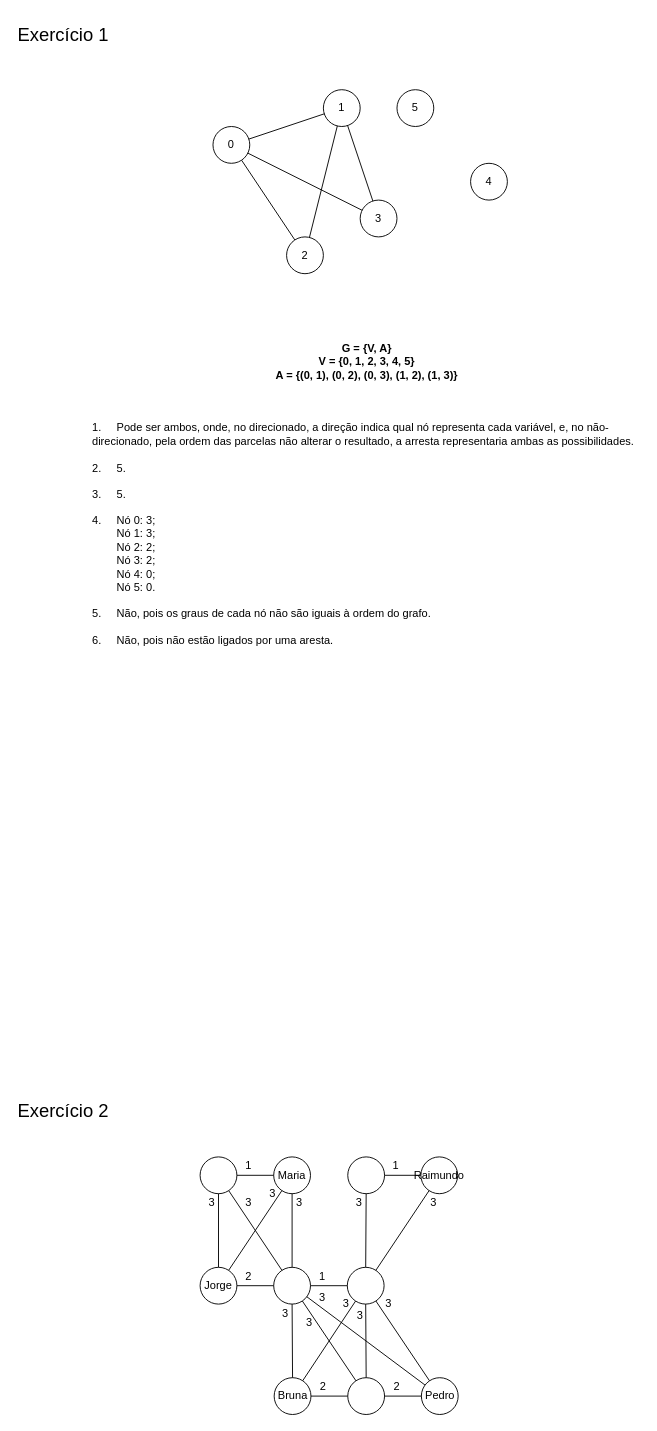
Image size: 657x1431. Some labels were removed from this diagram. Here are the shapes that lost their labels. From the top down, the centre of each, then its label:
At (x=218, y=1175): "Ramiro".
At (x=366, y=1175): "Ofélia".
At (x=291, y=1285): "Alfredo".
At (x=365, y=1285): "Andréia".
At (x=366, y=1395): "Lucas".
